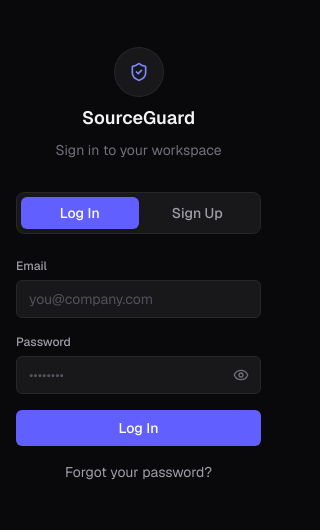
Test case: LoginPage › password confirmation › warns inline as soon as the confirmation diverges
This screenshot has width=320, height=530.
Click the button "Sign Up". click: (197, 213)
box: [138,197,256,229]
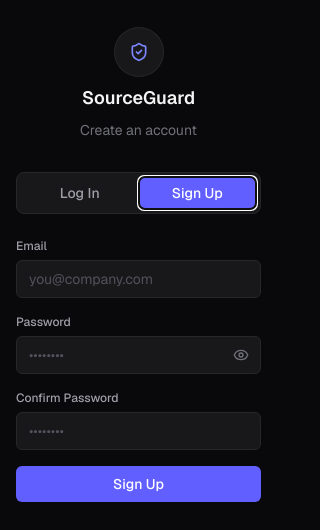
Type "hunter2hunter2" into the password field labelled "Password". click: (138, 355)
box: [16,336,261,374]
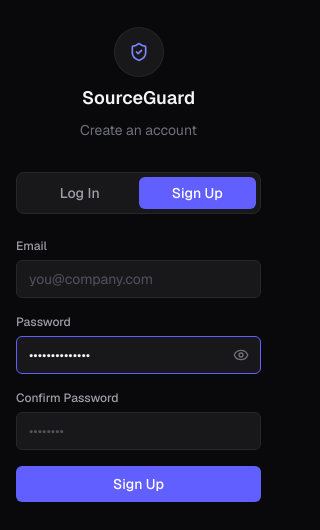
Type "hunter2x" into the password field labelled "Confirm Password". click: (138, 431)
box: [16,412,261,450]
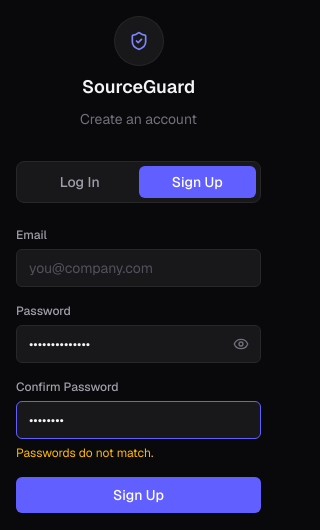
Check: the text "Passwords do not match." is shown, box [16,445,153,461]
